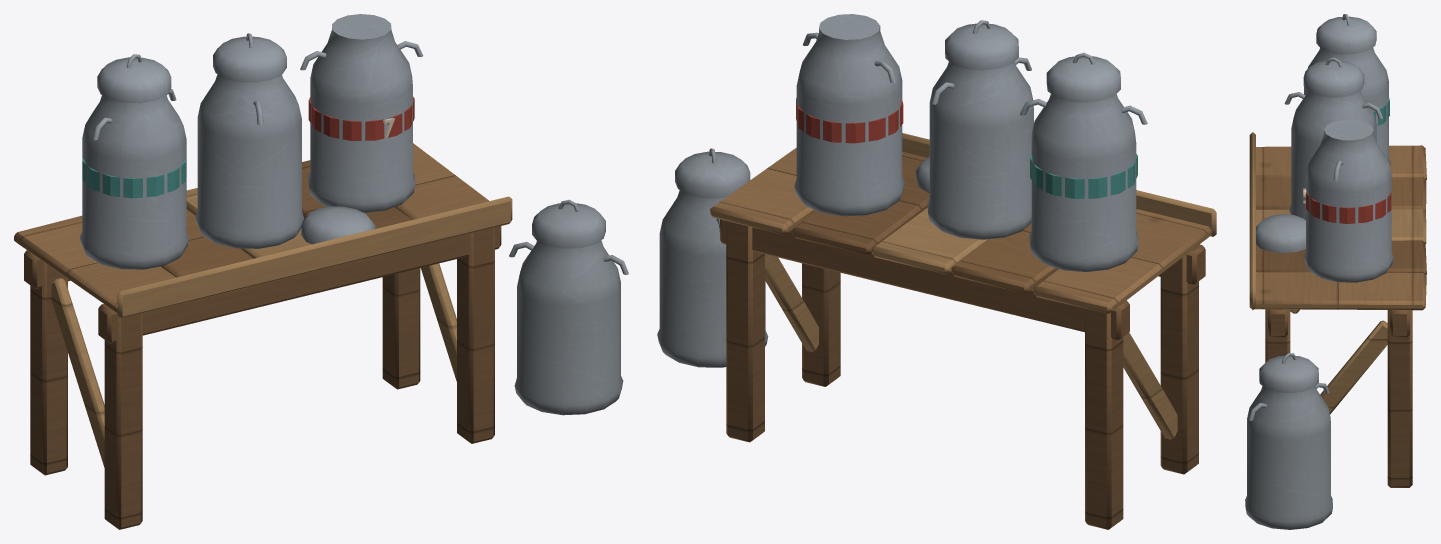
File: milk_churns.glb
The picture shows the model from 3 angles, left to right: view 1: azimuth 30°, elevation 25°; view 2: azimuth 150°, elevation 25°; view 3: azimuth 270°, elevation 25°; orthographic projection. The views are drawn at different scales.
Parts seen in each view (by area): view 1: milk_churns; view 2: milk_churns; view 3: milk_churns.
Part boxes in pixels (<box>): milk_churns: <box>14,14,628,529</box>; milk_churns: <box>657,14,1216,529</box>; milk_churns: <box>1245,14,1426,529</box>.
Size of the model in its own units: 1.98 by 1.55 by 0.7291.
11 materials, 11 textured.
